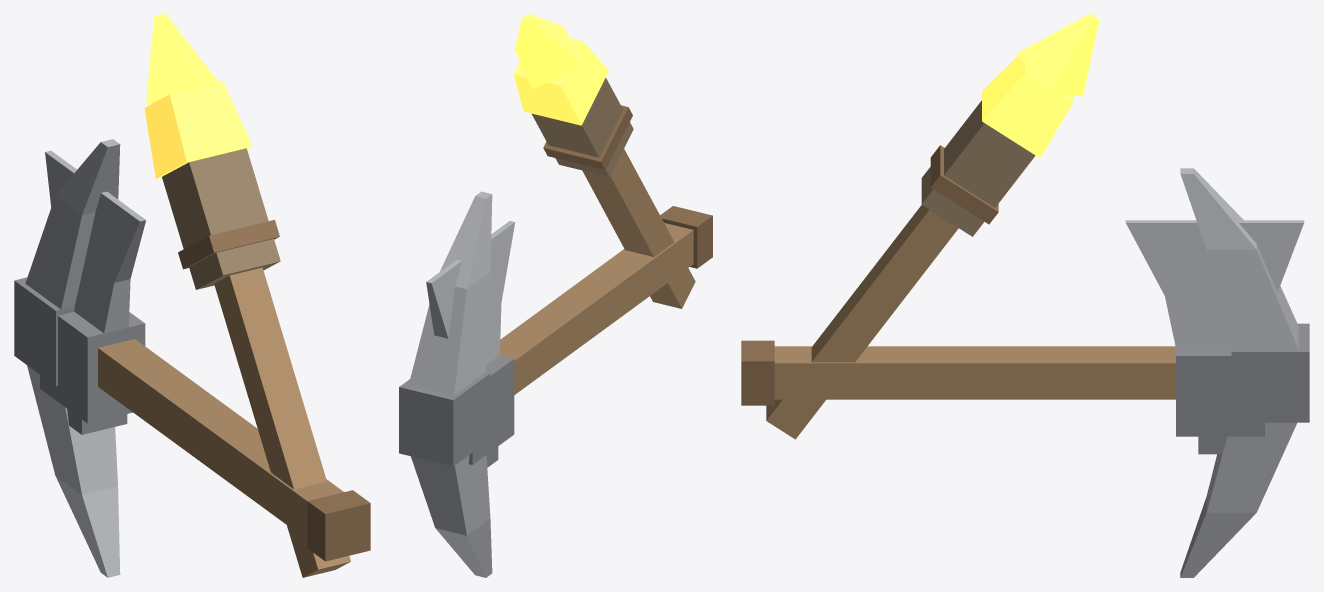
Rendered from tools.glb.
3 renders of one model, left to right at view 1: azimuth 30°, elevation 25°; view 2: azimuth 150°, elevation 25°; view 3: azimuth 270°, elevation 25°, orthographic. The views are drawn at different scales.
Parts seen in each view (by area): view 1: Torch, Pickaxe, Axe; view 2: Pickaxe, Torch, Axe; view 3: Axe, Pickaxe, Torch.
Boxes of the visible parts, box(x1,y1,x2,y2) form: Torch: box(144, 14, 350, 577); Pickaxe: box(14, 139, 343, 577); Axe: box(40, 150, 370, 561); Pickaxe: box(399, 191, 693, 577); Torch: box(513, 14, 695, 308); Axe: box(426, 206, 712, 467); Axe: box(741, 220, 1304, 454); Pickaxe: box(774, 168, 1309, 577); Torch: box(766, 14, 1099, 439).
Bounding box in the file's own units: 0.0735 × 0.5555 × 0.51.
